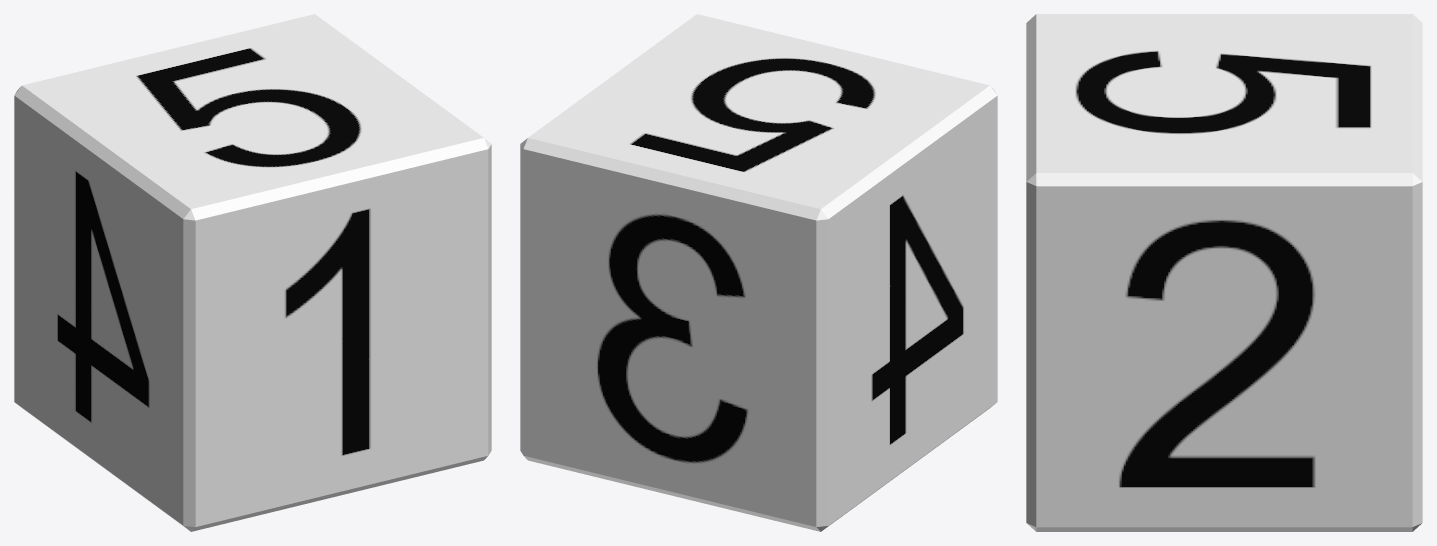
File: stone-13-material.glb
3 views of the same model, side by side, from view 1: azimuth 30°, elevation 25°; view 2: azimuth 150°, elevation 25°; view 3: azimuth 270°, elevation 25° (orthographic). The views are drawn at different scales.
Visible parts, largest first — view 1: center-Cube; view 2: center-Cube; view 3: center-Cube.
Boxes of the visible parts, x1,y1,x2,y2 form: center-Cube: [14, 14, 491, 531]; center-Cube: [520, 14, 997, 531]; center-Cube: [1026, 14, 1422, 531].
Size of the model in its own units: 1 by 1 by 1.
6 materials, 6 textured.
